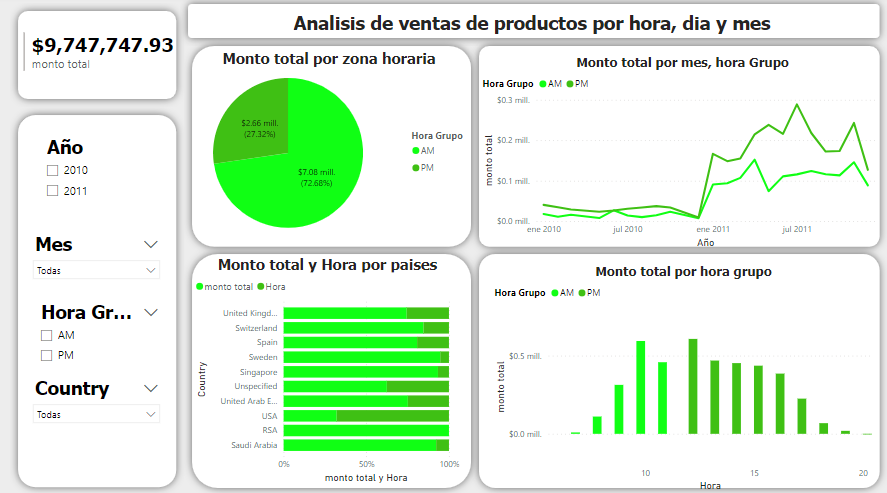

What the dashboard file says about the page in this screenshot:
{"tool":"powerbi","page":{"name":"Analisis #1","canvas":[1280,720],"ordinal":0},"visuals":[{"type":"shape","box":[679.7,360,600.5,360],"z":0},{"type":"shape","box":[679.7,60.5,600.5,312.5],"z":1000},{"type":"shape","box":[15.8,159.8,250.6,558.7],"z":2000},{"type":"shape","box":[15.8,10.1,250.6,149.8],"z":3000},{"type":"shape","box":[266.2,60.4,424.9,312.4],"z":4000},{"type":"pieChart","fields":{"Category":["data.Hora Grupo"],"Y":["Sum(data.monto total)"]},"box":[233.3,60.4,457.8,331.1],"z":5000},{"type":"textbox","box":[316.8,72,391.7,73.4],"z":6000},{"type":"shape","box":[266.4,360,424.8,360],"z":7000},{"type":"hundredPercentStackedBarChart","title":"Monto total y Hora por paises","fields":{"Category":["data.Country"],"Y":["Sum(data.monto total)","Sum(data.Hora)"]},"box":[277.9,373,390.2,332.6],"z":8000},{"type":"multiRowCard","fields":{"Values":["Sum(data.monto total)"]},"box":[30.2,47.5,236.2,95],"z":9000},{"type":"slicer","fields":{"Values":["data.InvoiceDate.Variación.Jerarquía de fechas.Año"]},"box":[56.2,195.8,185.8,110.9],"z":10000},{"type":"slicer","fields":{"Values":["data.InvoiceDate.Variación.Jerarquía de fechas.Mes"]},"box":[38.8,336.2,202.6,97.7],"z":11000},{"type":"slicer","fields":{"Values":["data.Hora Grupo"]},"box":[47.5,433.4,194.4,109.4],"z":12000},{"type":"slicer","fields":{"Values":["data.Country"]},"box":[38.8,543.1,202.6,97.7],"z":13000},{"type":"lineChart","title":"Monto total por mes, hora Grupo","fields":{"Y":["Sum(data.monto total)"],"Category":["data.InvoiceDate.Variación.Jerarquía de fechas.Año","data.InvoiceDate.Variación.Jerarquía de fechas.Trimestre","data.InvoiceDate.Variación.Jerarquía de fechas.Mes","data.InvoiceDate.Variación.Jerarquía de fechas.Día"],"Series":["data.Hora Grupo"]},"box":[691.2,83.5,586.1,283.7],"z":14000},{"type":"clusteredColumnChart","title":"Monto total por hora grupo","fields":{"Y":["Sum(data.monto total)"],"Category":["data.Hora"],"Series":["data.Hora Grupo"]},"box":[708.5,384.5,554.4,334.1],"z":15000},{"type":"shape","box":[260.3,0,1019.2,71.8],"z":16000},{"type":"textbox","box":[419.2,16.7,811.5,78.2],"z":17000}]}

Visuals, with their boxes in screenshot pixels (x1, y1, x2, y2), scaled from the page's 1280x720 canvas onto the 887x493 screenshot:
shape: detection(471, 246, 886, 492)
shape: detection(471, 41, 886, 255)
shape: detection(11, 109, 185, 492)
shape: detection(11, 7, 185, 109)
shape: detection(184, 41, 479, 255)
pieChart - data.Hora Grupo x Sum(data.monto total): detection(162, 41, 479, 268)
textbox: detection(220, 49, 491, 100)
shape: detection(185, 246, 479, 492)
"Monto total y Hora por paises" hundredPercentStackedBarChart: detection(193, 255, 463, 483)
multiRowCard - Sum(data.monto total): detection(21, 33, 185, 98)
slicer - data.InvoiceDate.Variación.Jerarquía de fechas.Año: detection(39, 134, 168, 210)
slicer - data.InvoiceDate.Variación.Jerarquía de fechas.Mes: detection(27, 230, 167, 297)
slicer - data.Hora Grupo: detection(33, 297, 168, 372)
slicer - data.Country: detection(27, 372, 167, 439)
"Monto total por mes, hora Grupo" lineChart: detection(479, 57, 885, 251)
"Monto total por hora grupo" clusteredColumnChart: detection(491, 263, 875, 492)
shape: detection(180, 0, 886, 49)
textbox: detection(290, 11, 853, 65)
